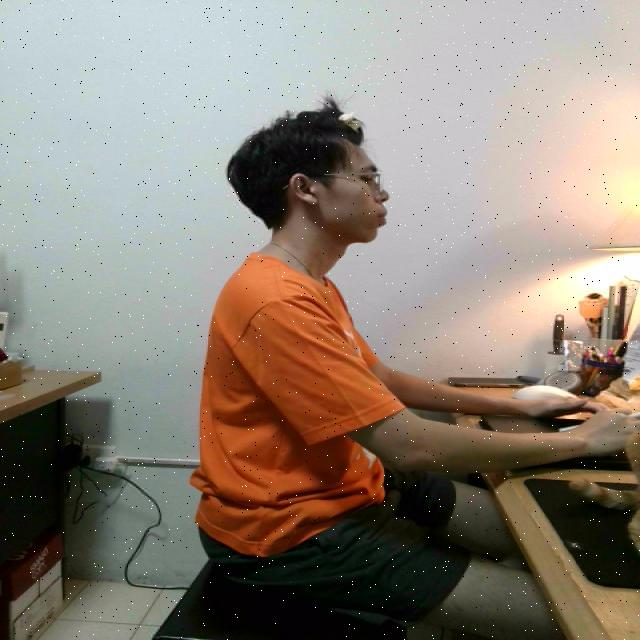Good: (189, 102, 478, 602)
